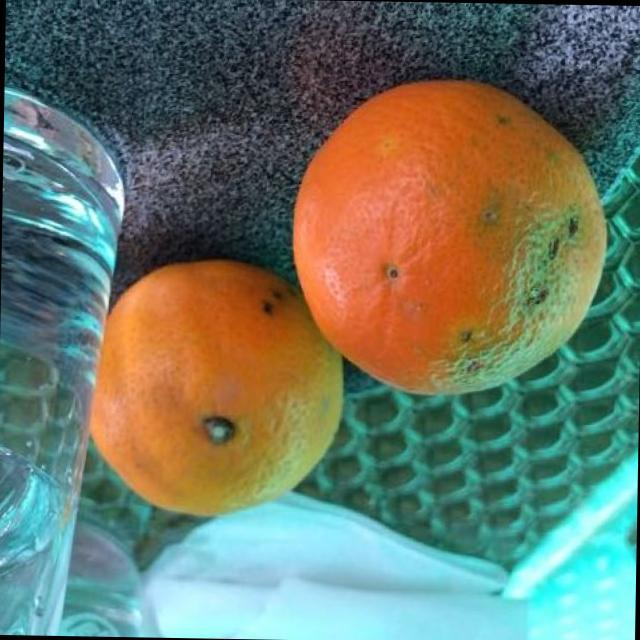Orange: (278, 66, 618, 412), (87, 247, 353, 528)
